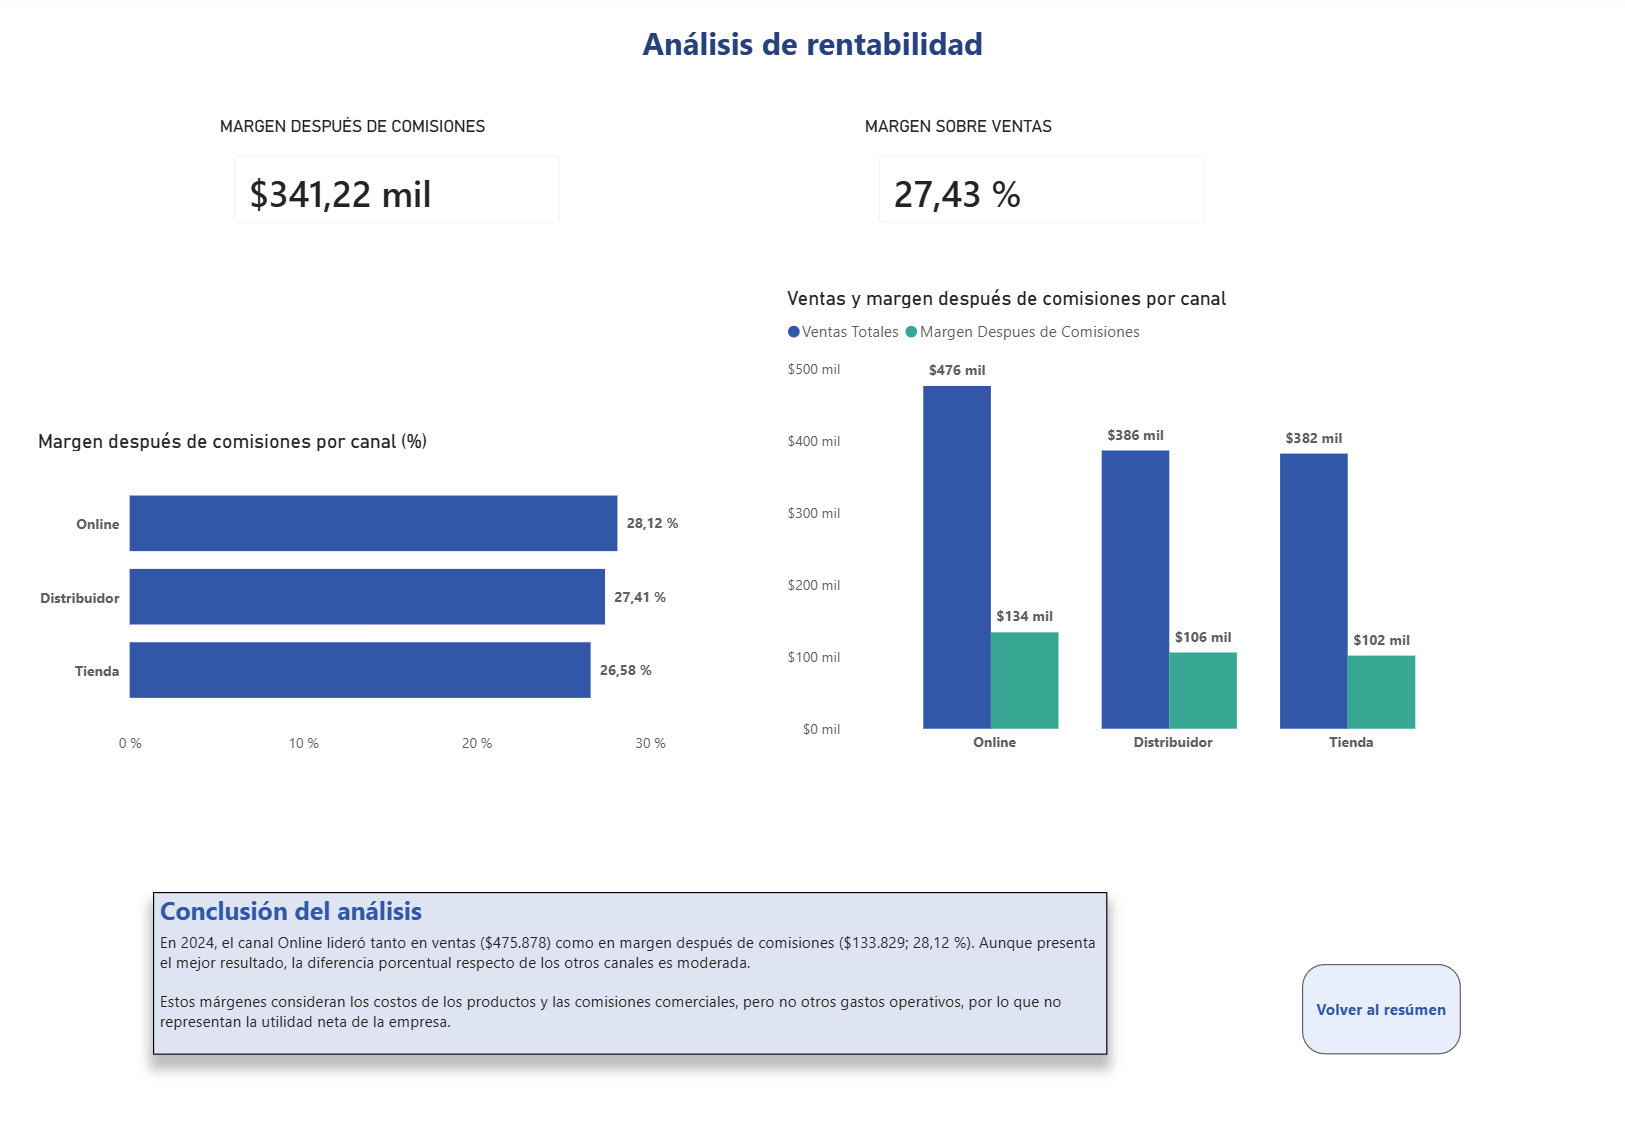

What the dashboard file says about the page in this screenshot:
{"tool":"powerbi","page":{"name":"Análisis de rentabilidad","canvas":[1280,720],"ordinal":1},"visuals":[{"type":"clusteredBarChart","title":"Margen después de comisiones por canal (%) ","fields":{"Category":["TblDimCanal.Canal"],"Y":["Medidas.Margen Despues de Comisiones %"]},"box":[33,271.2,543.1,241.7],"z":0},{"type":"cardVisual","title":"MARGEN DESPUÉS DE COMISIONES","fields":{"Data":["Medidas.Margen Despues de Comisiones"]},"box":[199.5,70.3,315,108],"z":1000},{"type":"cardVisual","title":"MARGEN SOBRE VENTAS","fields":{"Data":["Medidas.Margen Despues de Comisiones %"]},"box":[744,70.2,315.4,108.2],"z":2000},{"type":"clusteredColumnChart","title":"Ventas y margen después de comisiones por canal","fields":{"Category":["TblDimCanal.Canal"],"Y":["Medidas.Ventas_Totales","Medidas.Margen Despues de Comisiones"]},"box":[707.4,194.6,500.9,318.2],"z":3000},{"type":"textbox","title":"Conclusión del análisis","box":[160.2,557.6,820.5,139.8],"z":4000},{"type":"actionButton","title":"Ver","box":[1110.7,619.6,136.7,77.7],"z":5000},{"type":"textbox","box":[94.1,6.3,1050.8,53.7],"z":6000}]}

Visuals, with their boxes on the page's 1280x720 design canvas (x1, y1, x2, y2). These are canvas units, not pixel positions in the 1625x1133 screenshot, which may show the page scaled, cropped or inside an application window:
"Margen después de comisiones por canal (%) " clusteredBarChart: detection(33, 271, 576, 513)
"MARGEN DESPUÉS DE COMISIONES" cardVisual: detection(200, 70, 514, 178)
"MARGEN SOBRE VENTAS" cardVisual: detection(744, 70, 1059, 178)
"Ventas y margen después de comisiones por canal" clusteredColumnChart: detection(707, 195, 1208, 513)
"Conclusión del análisis" textbox: detection(160, 558, 981, 697)
"Ver" actionButton: detection(1111, 620, 1247, 697)
textbox: detection(94, 6, 1145, 60)
